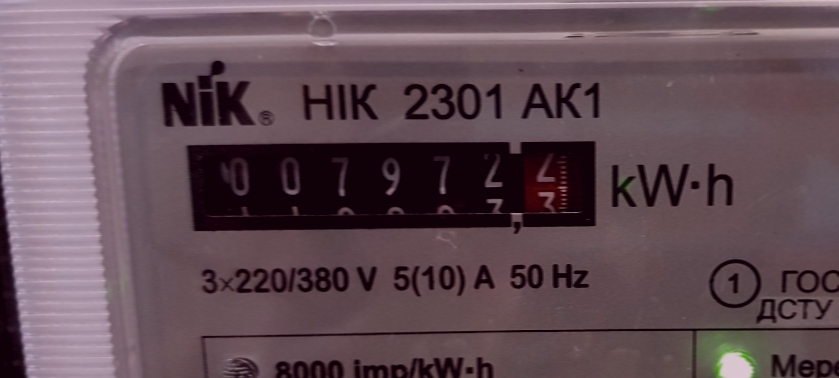0: (226, 153, 252, 194), (278, 152, 302, 194)
2: (481, 149, 504, 187), (533, 149, 556, 183)
3: (535, 186, 557, 212)
7: (429, 150, 454, 196), (328, 151, 352, 196)
9: (378, 152, 401, 195)
screen: (170, 127, 612, 243)
